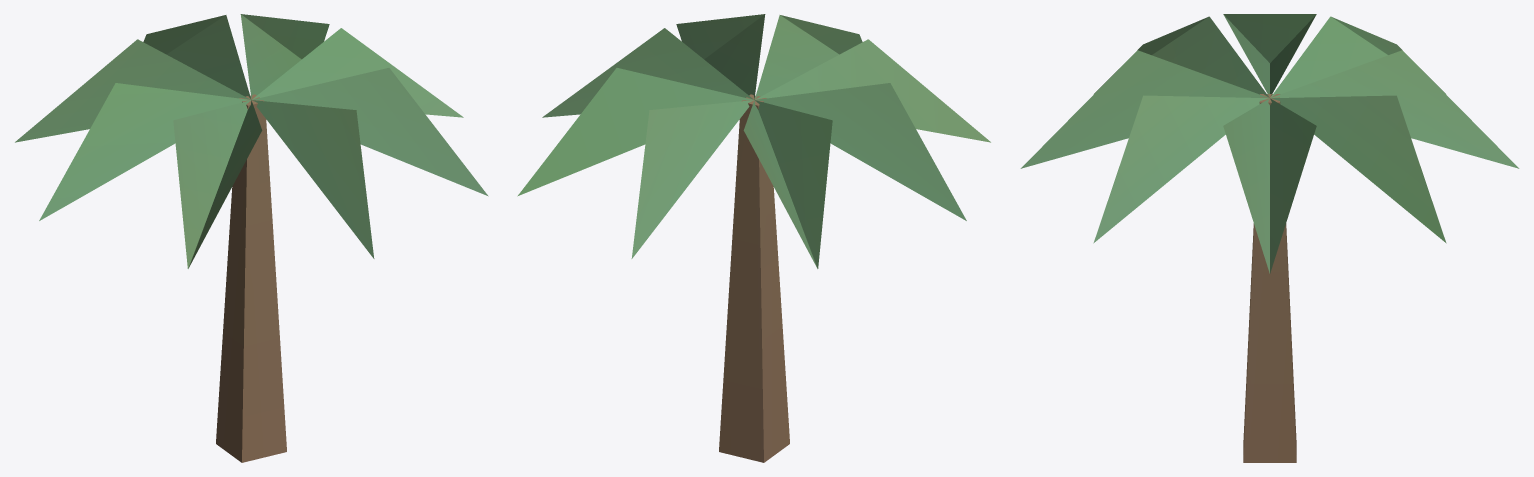
The model's file is palm.glb.
The picture shows the model from 3 angles, left to right: view 1: azimuth 30°, elevation 25°; view 2: azimuth 150°, elevation 25°; view 3: azimuth 270°, elevation 25°; orthographic projection.
Bounding box in the file's own units: 1.6 × 1.35 × 1.6.
